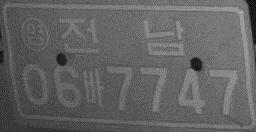0: (21, 63, 49, 106)
4: (177, 67, 204, 113)
6: (52, 62, 80, 108)
7: (208, 67, 238, 115), (139, 65, 166, 114), (106, 64, 133, 111)
바: (82, 68, 105, 108)
영: (19, 17, 50, 53)
전남_D: (58, 16, 185, 56)
